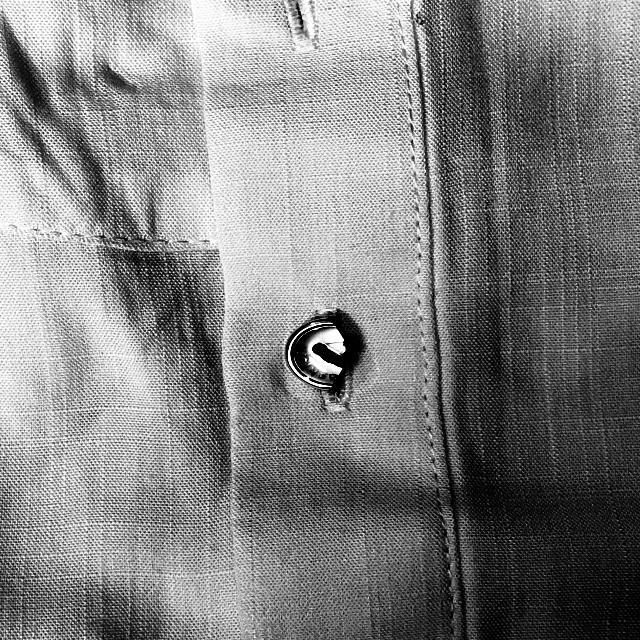Broken_button: (271, 304, 371, 400)
